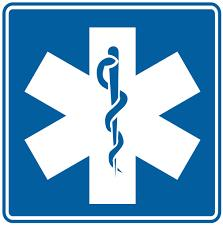Hospital: (19, 14, 213, 211)
